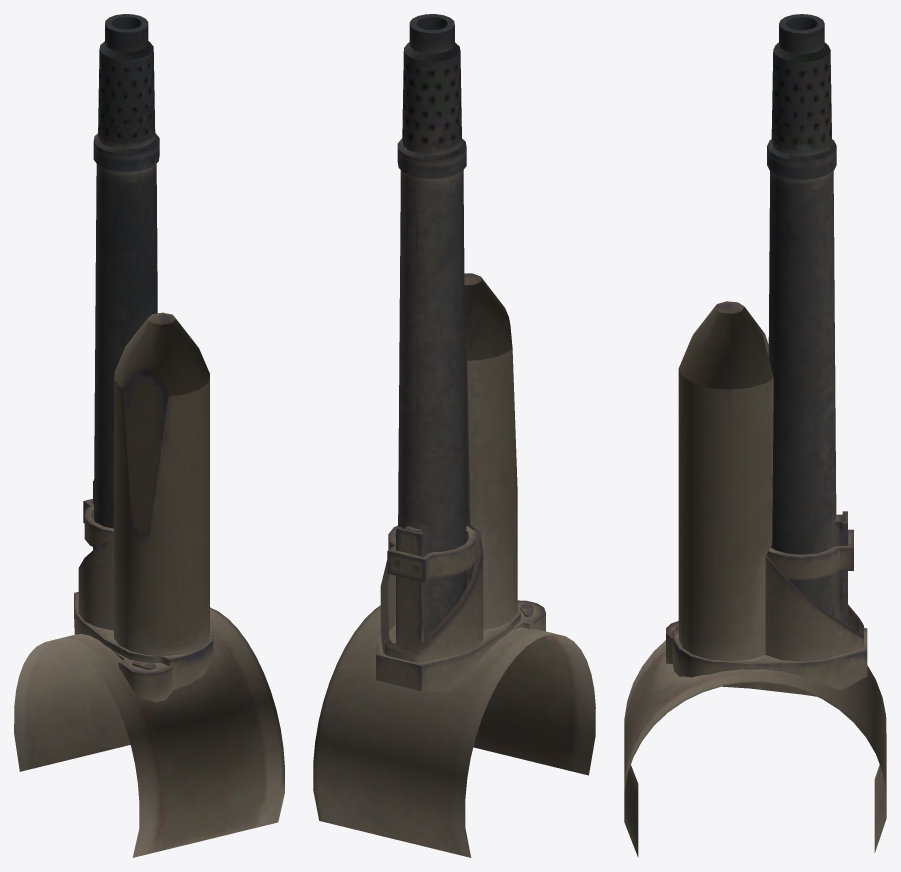
File: Gun_04.glb
3 views of the same model, side by side, from view 1: azimuth 30°, elevation 25°; view 2: azimuth 150°, elevation 25°; view 3: azimuth 270°, elevation 25° (orthographic). The views are drawn at different scales.
Parts seen in each view (by area): view 1: set_0_group_0; view 2: set_0_group_0; view 3: set_0_group_0.
Part boxes in pixels (left/top/right/bottom): set_0_group_0: left=14, top=14, right=284, bottom=857; set_0_group_0: left=313, top=14, right=595, bottom=857; set_0_group_0: left=624, top=14, right=886, bottom=857.
Size of the model in its own units: 0.2385 by 1.19 by 0.3549.
Materials: 1 (1 with a texture image).
